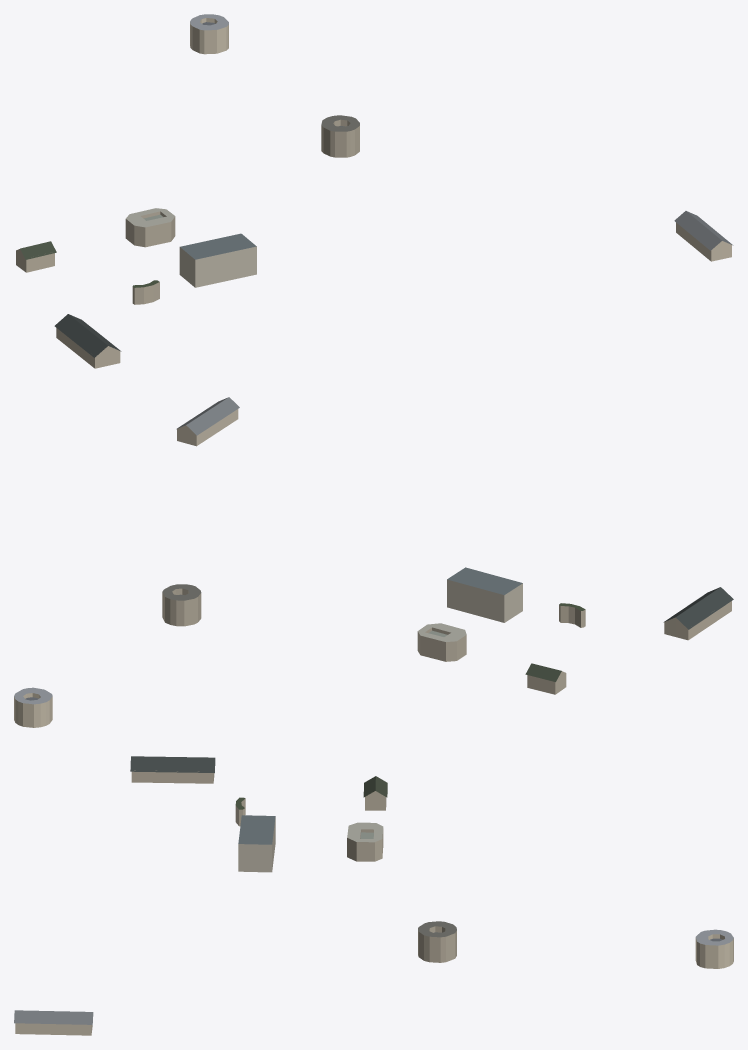
3 views of the same model, one above another, from view 1: azimuth 30°, elevation 25°; view 2: azimuth 150°, elevation 25°; view 3: azimuth 270°, elevation 25° (orthographic).
Visible parts, largest first — view 1: tuile; view 2: tuile; view 3: tuile.
Boxes of the visible parts, bbox=[...] form: tuile: bbox=[16, 14, 733, 368]; tuile: bbox=[14, 397, 733, 727]; tuile: bbox=[14, 756, 733, 1035].
Bounding box in the file's own units: 174 × 10.49 × 189.
